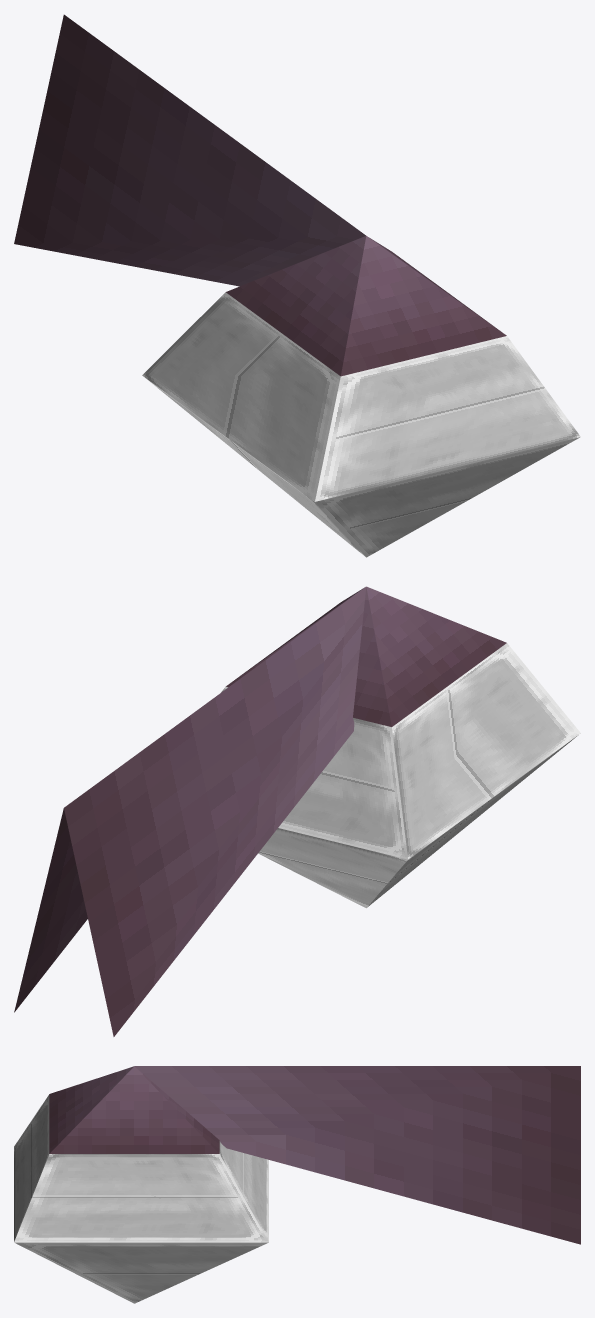
The picture shows the model from 3 angles, top to bottom: view 1: azimuth 30°, elevation 25°; view 2: azimuth 150°, elevation 25°; view 3: azimuth 270°, elevation 25°; orthographic projection. The views are drawn at different scales.
Visible parts, largest first — view 1: nprim190-Box01.001; view 2: nprim190-Box01.001; view 3: nprim190-Box01.001.
Part boxes in pixels (<box>): nprim190-Box01.001: <box>14,14,580,557</box>; nprim190-Box01.001: <box>14,586,580,1036</box>; nprim190-Box01.001: <box>14,1066,580,1303</box>.
Size of the model in its own units: 32 by 37 by 80.
Materials: 2 (2 with a texture image).
